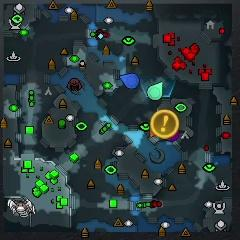Other: (151, 110, 179, 138)
p1: (119, 73, 140, 88)
p2: (147, 81, 162, 100)
p3: (168, 132, 180, 141)
p5: (149, 128, 155, 138)
